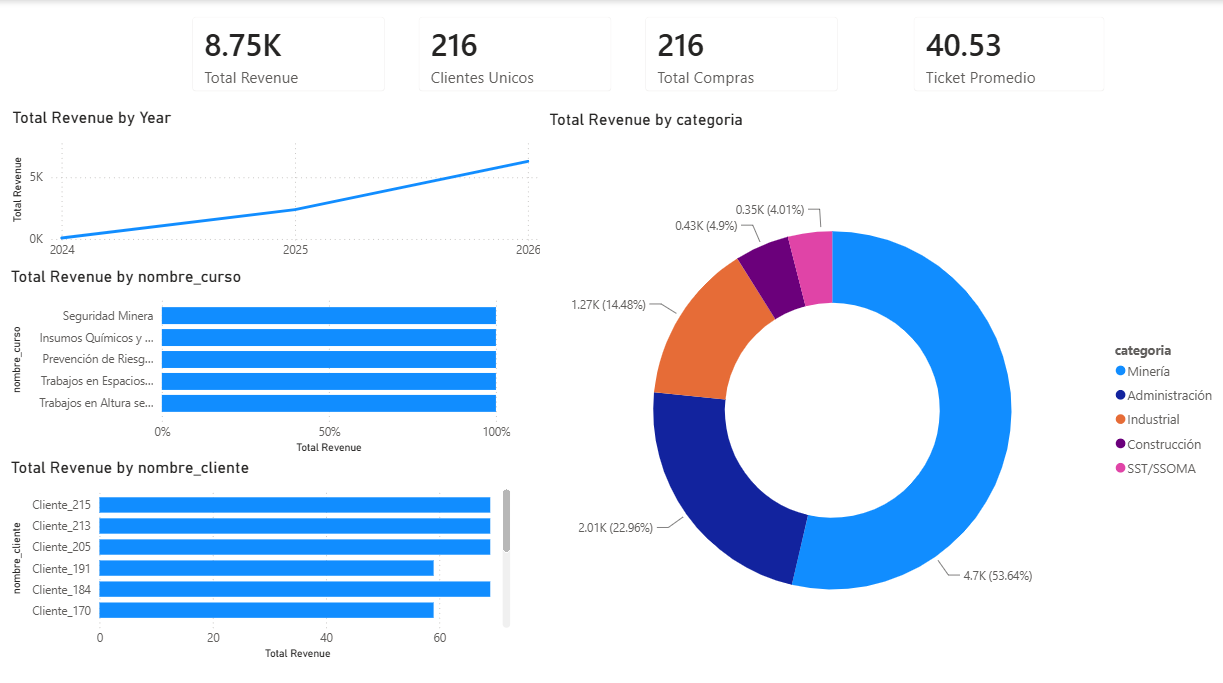

The dashboard page shown, as its layout file describes it:
{"tool":"powerbi","page":{"name":"Page 1","canvas":[816,1056],"ordinal":0},"visuals":[{"type":"cardVisual","fields":{"Data":["public compras.Total Revenue"]},"box":[0,0,171.1,113.2],"z":0},{"type":"cardVisual","fields":{"Data":["public compras.Total Compras"]},"box":[438.6,0,165.6,114.3],"z":1000},{"type":"cardVisual","fields":{"Data":["public compras.Ticket Promedio"]},"box":[634.5,0,182,114.3],"z":2000},{"type":"cardVisual","fields":{"Data":["public compras.Clientes Unicos"]},"box":[226.3,0,182,114.3],"z":3000},{"type":"lineChart","fields":{"Category":["public compras.fecha_compra.Variation.Date Hierarchy.Year","public compras.fecha_compra.Variation.Date Hierarchy.Quarter","public compras.fecha_compra.Variation.Date Hierarchy.Month","public compras.fecha_compra.Variation.Date Hierarchy.Day"],"Y":["public compras.Total Revenue"]},"box":[9.3,112,807.2,168],"z":4000},{"type":"barChart","fields":{"Y":["public compras.Total Revenue"],"Category":["public clientes.nombre_cliente"]},"box":[9.3,475.9,807.2,214.6],"z":5000},{"type":"donutChart","fields":{"Y":["public compras.Total Revenue"],"Category":["public categoria.categoria"]},"box":[0,690.5,816.5,366.3],"z":6000},{"type":"hundredPercentStackedBarChart","fields":{"Y":["public compras.Total Revenue"],"Category":["public cursos.nombre_curso"]},"box":[9.3,277.6,807.2,198.3],"z":7000}]}

Visuals, with their boxes on the page's 816x1056 design canvas (x1, y1, x2, y2). These are canvas units, not pixel positions in the 1223x683 screenshot, which may show the page scaled, cropped or inside an application window:
cardVisual - public compras.Total Revenue: {"x1": 0, "y1": 0, "x2": 171, "y2": 113}
cardVisual - public compras.Total Compras: {"x1": 439, "y1": 0, "x2": 604, "y2": 114}
cardVisual - public compras.Ticket Promedio: {"x1": 634, "y1": 0, "x2": 816, "y2": 114}
cardVisual - public compras.Clientes Unicos: {"x1": 226, "y1": 0, "x2": 408, "y2": 114}
lineChart - public compras.fecha_compra.Variation.Date Hierarchy.Year x public compras.fecha_compra.Variation.Date Hierarchy.Quarter: {"x1": 9, "y1": 112, "x2": 816, "y2": 280}
barChart - public compras.Total Revenue x public clientes.nombre_cliente: {"x1": 9, "y1": 476, "x2": 816, "y2": 690}
donutChart - public compras.Total Revenue x public categoria.categoria: {"x1": 0, "y1": 690, "x2": 816, "y2": 1057}
hundredPercentStackedBarChart - public compras.Total Revenue x public cursos.nombre_curso: {"x1": 9, "y1": 278, "x2": 816, "y2": 476}
